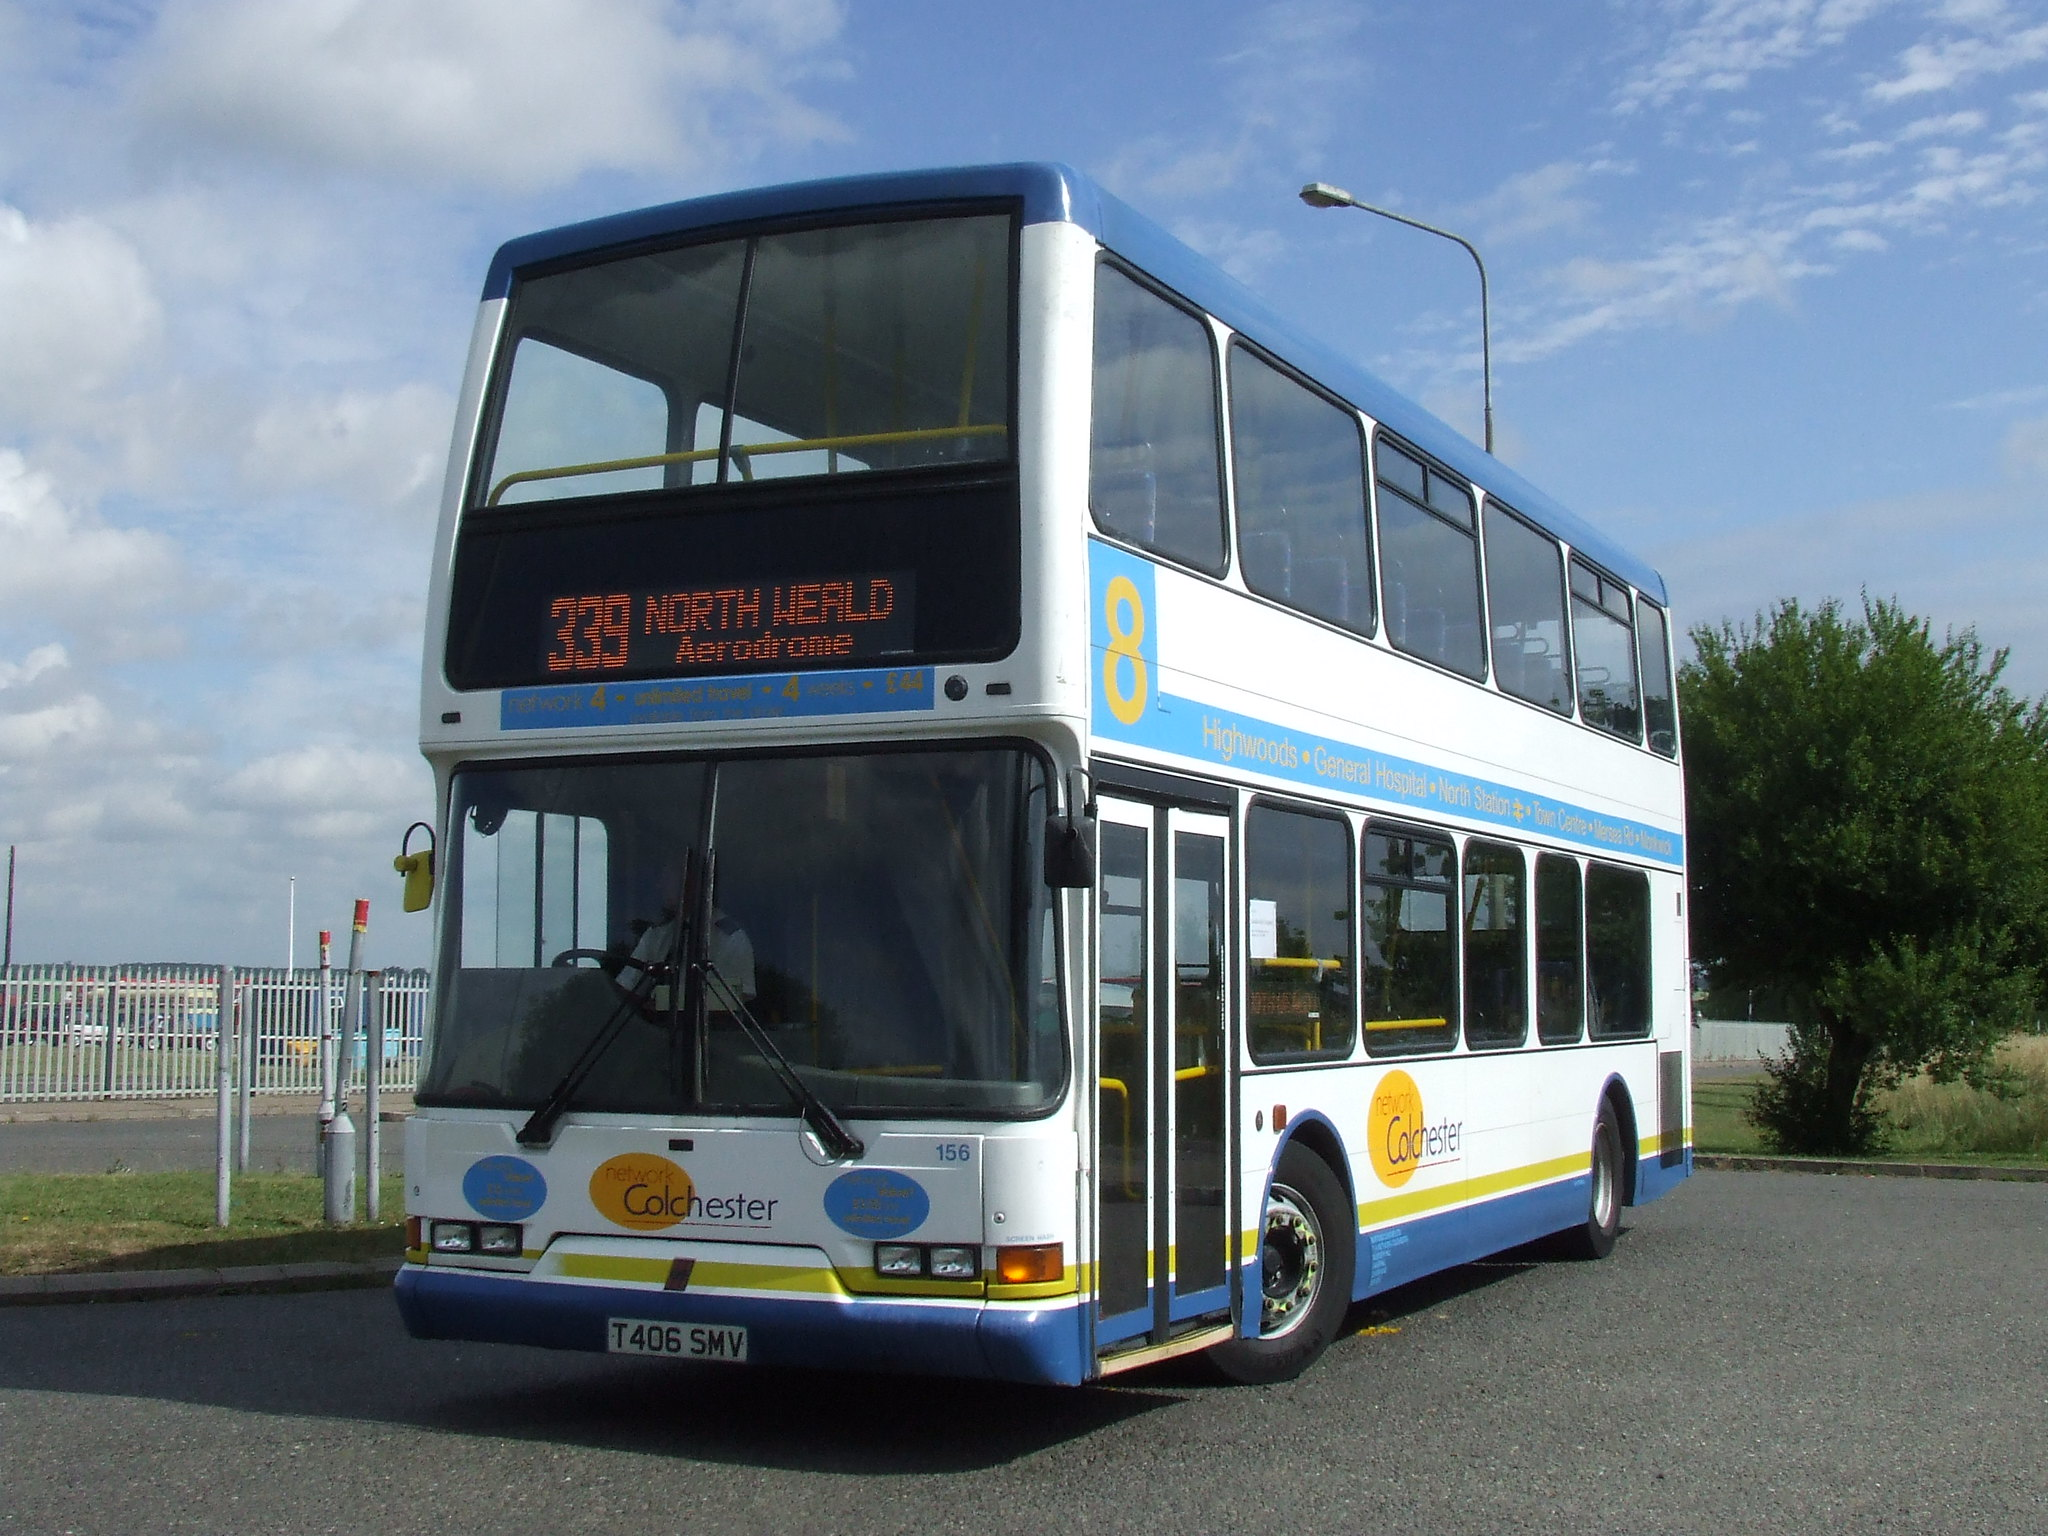bus: (390, 173, 1721, 1386)
